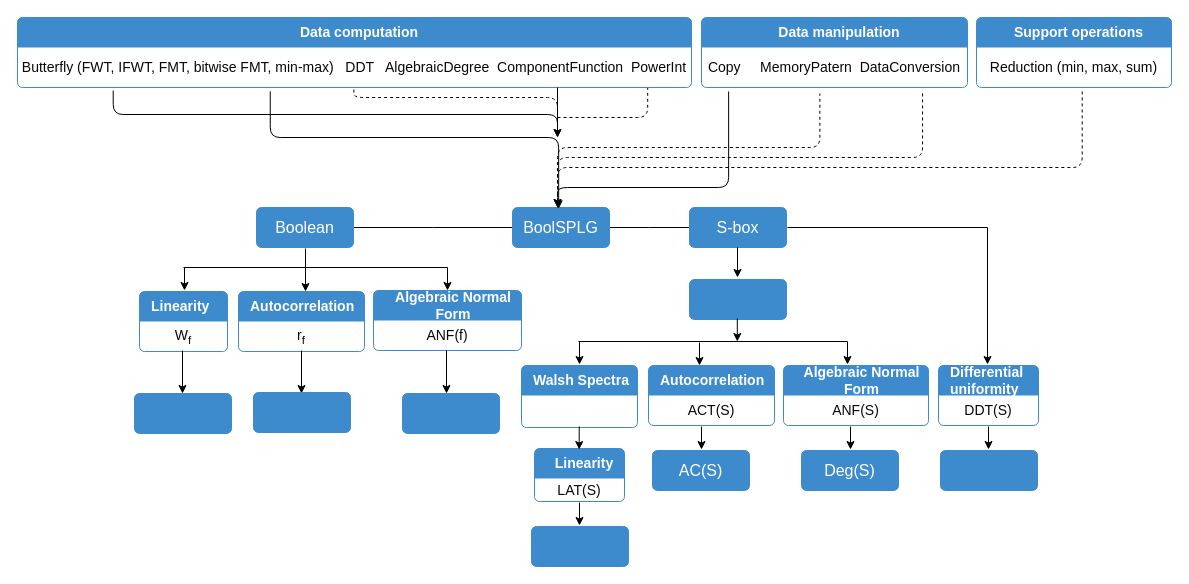
This 1189x584 diagram has some shape labels left out. The shapes that lost their labels are listed below. From the top down, each one's centre as x and y in pixels, then its label:
At pixel 737 299: "Component functions".
At pixel 183 413: "Lin(f)".
At pixel 301 412: "AC(f)".
At pixel 451 413: "Deg(f)".
At pixel 579 396: "W(S)".
At pixel 989 470: "δ(S)".
At pixel 579 546: "Lin(S)".
